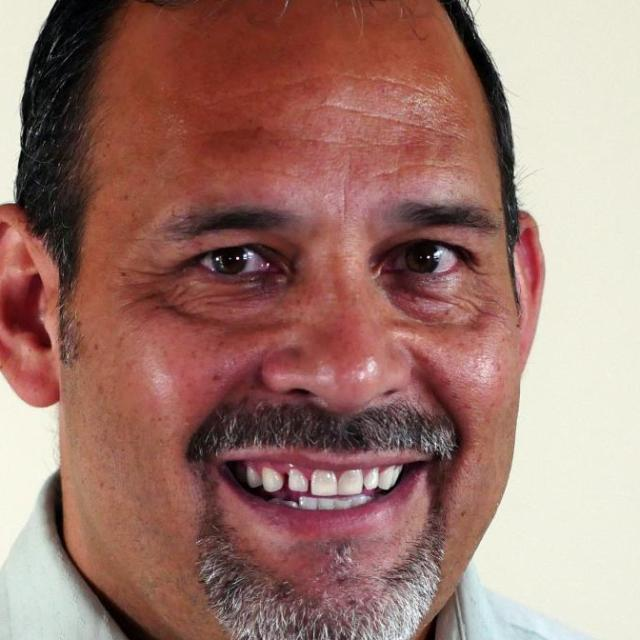Normal: (65, 5, 522, 639)
